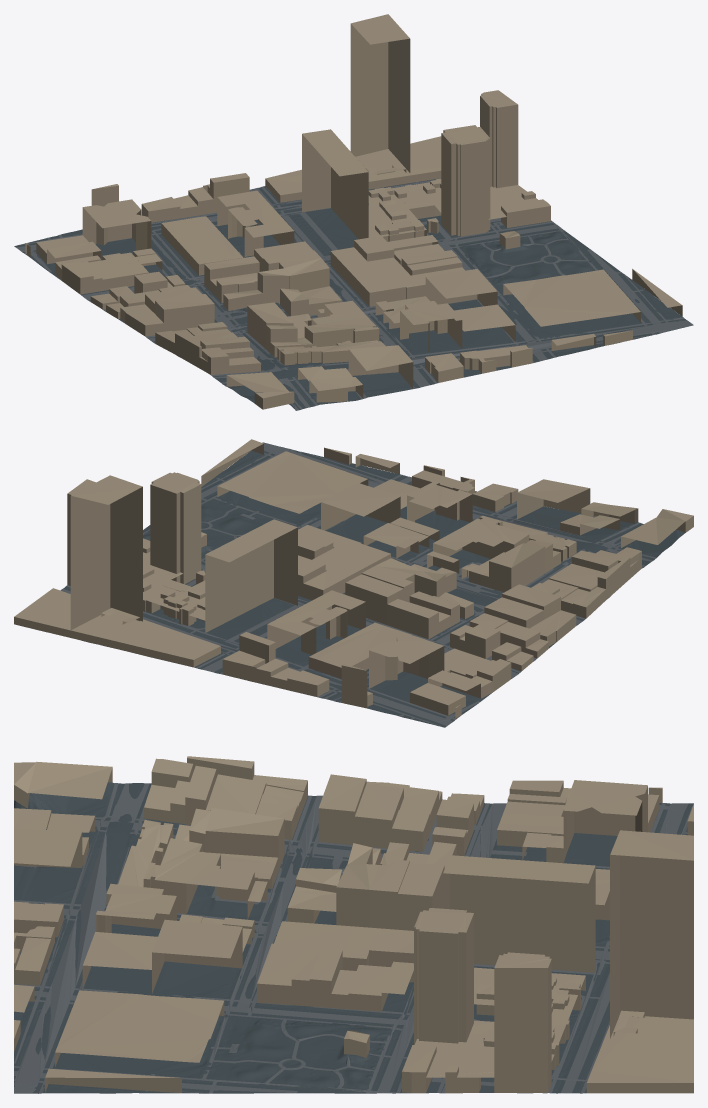
File: epsg26910-1439-10894.lod0.glb
The picture shows the model from 3 angles, top to bottom: view 1: azimuth 30°, elevation 25°; view 2: azimuth 150°, elevation 25°; view 3: azimuth 270°, elevation 25°; orthographic projection. The views are drawn at different scales.
Visible parts, largest first — view 1: epsg26910-1439-10894-lod0; view 2: epsg26910-1439-10894-lod0; view 3: epsg26910-1439-10894-lod0.
Part boxes in pixels (<box>): epsg26910-1439-10894-lod0: <box>14,14,693,410</box>; epsg26910-1439-10894-lod0: <box>14,439,693,727</box>; epsg26910-1439-10894-lod0: <box>14,756,693,1093</box>.
Bounding box in the file's own units: 384 × 122 × 384.
